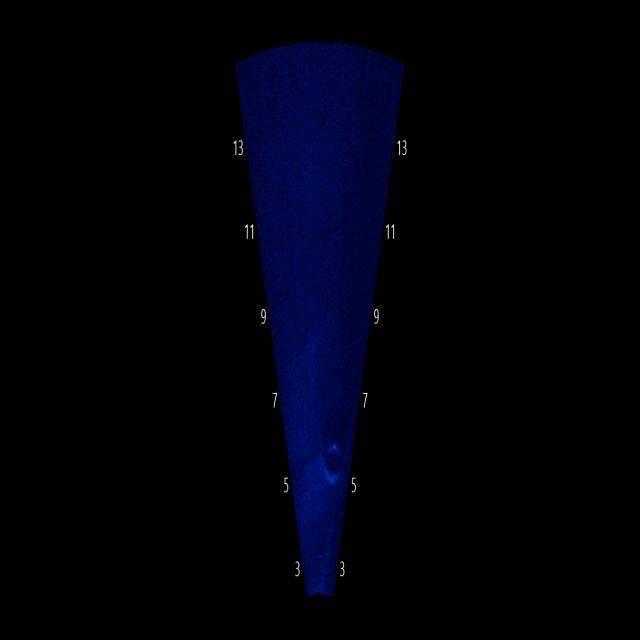circle: (324, 438, 346, 488)
